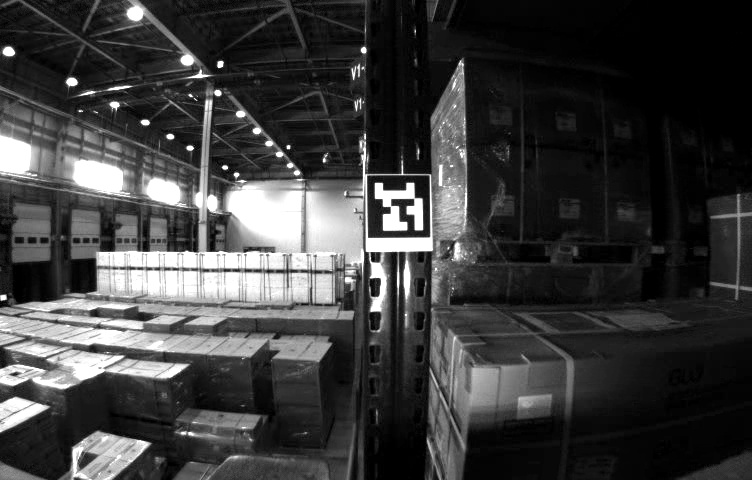True Barcode: (572, 458, 615, 478)
